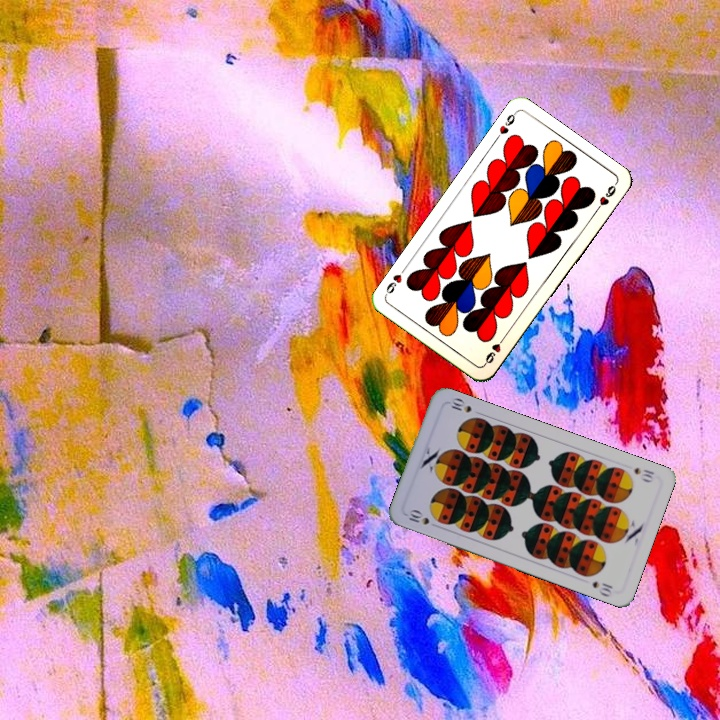H9: (490, 108, 519, 144), (480, 332, 508, 368)
S10: (403, 506, 442, 530), (630, 463, 657, 485)
